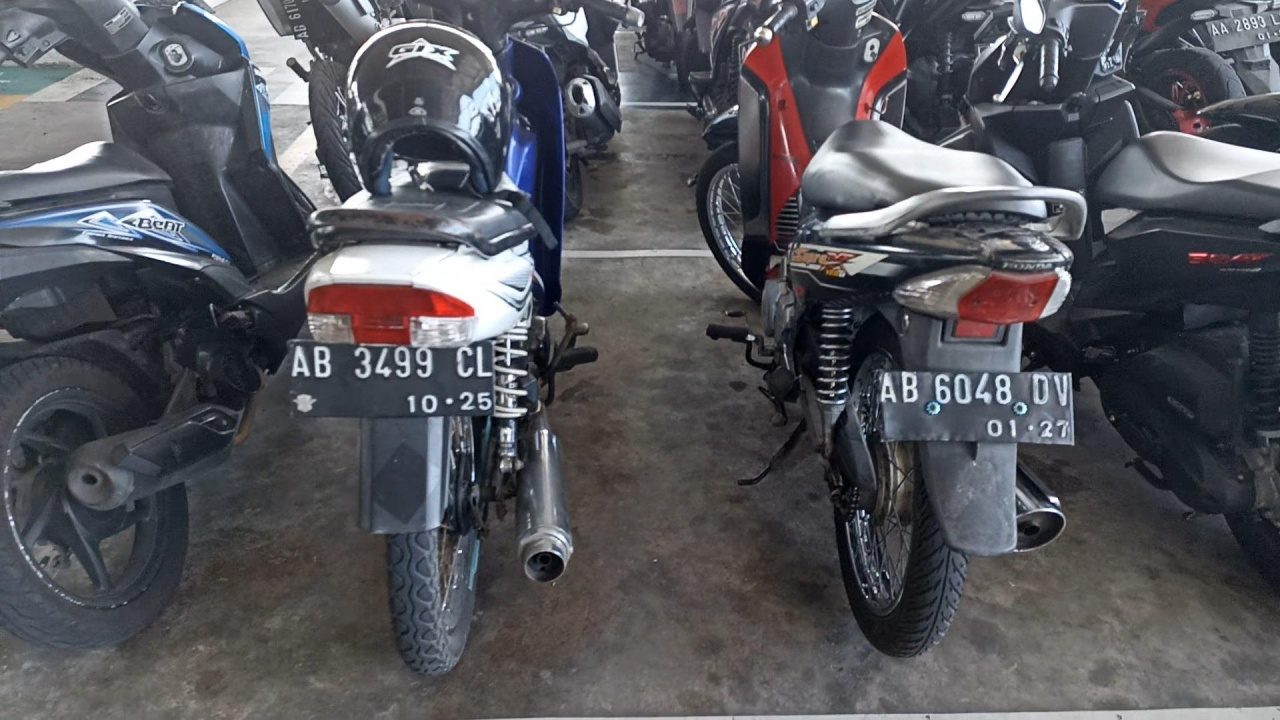plate: (289, 342, 496, 417), (880, 368, 1073, 445)
